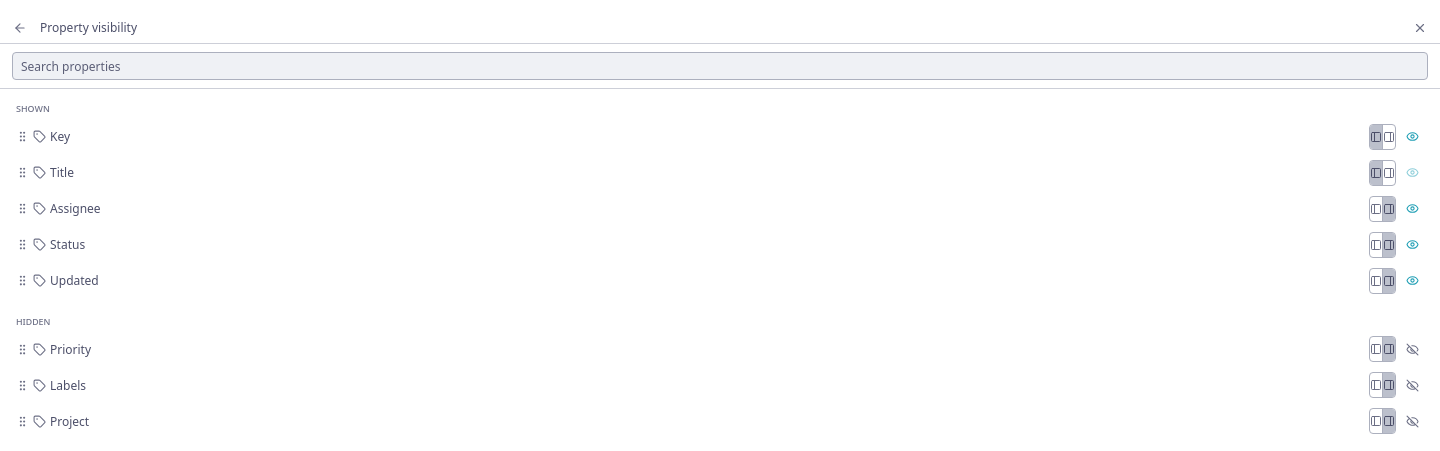
Test: PropertyVisibilityPanel › keeps drag disabled while search is active and shows explanation text
Type "key" into the field labelled "Search properties" at (720,66), box [12,52,1428,80]
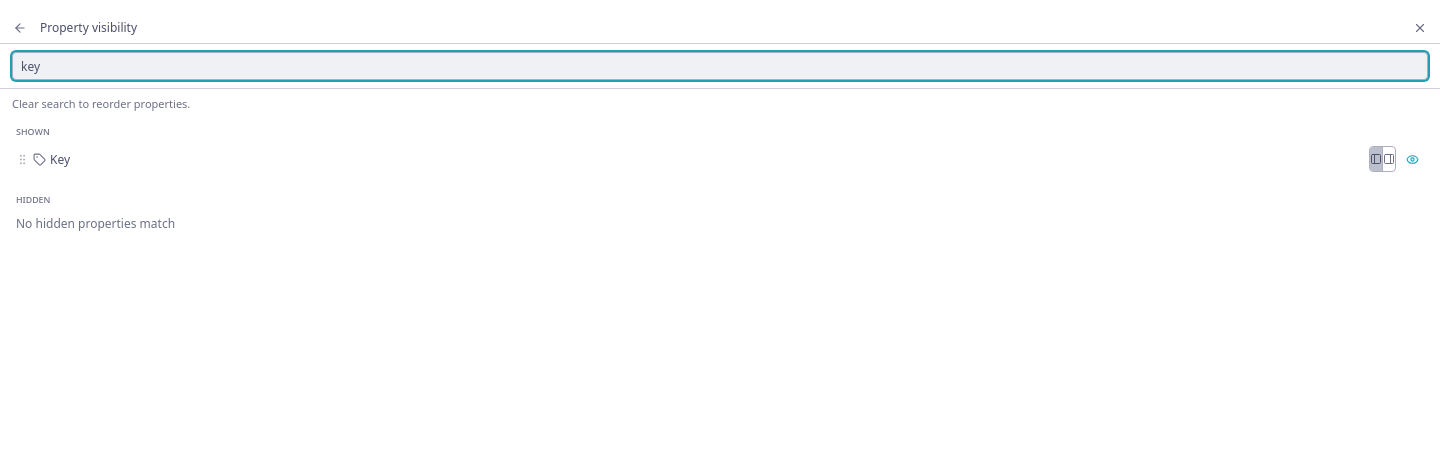
Result: the text "Clear search to reorder properties." is shown at [12,96,190,111]
